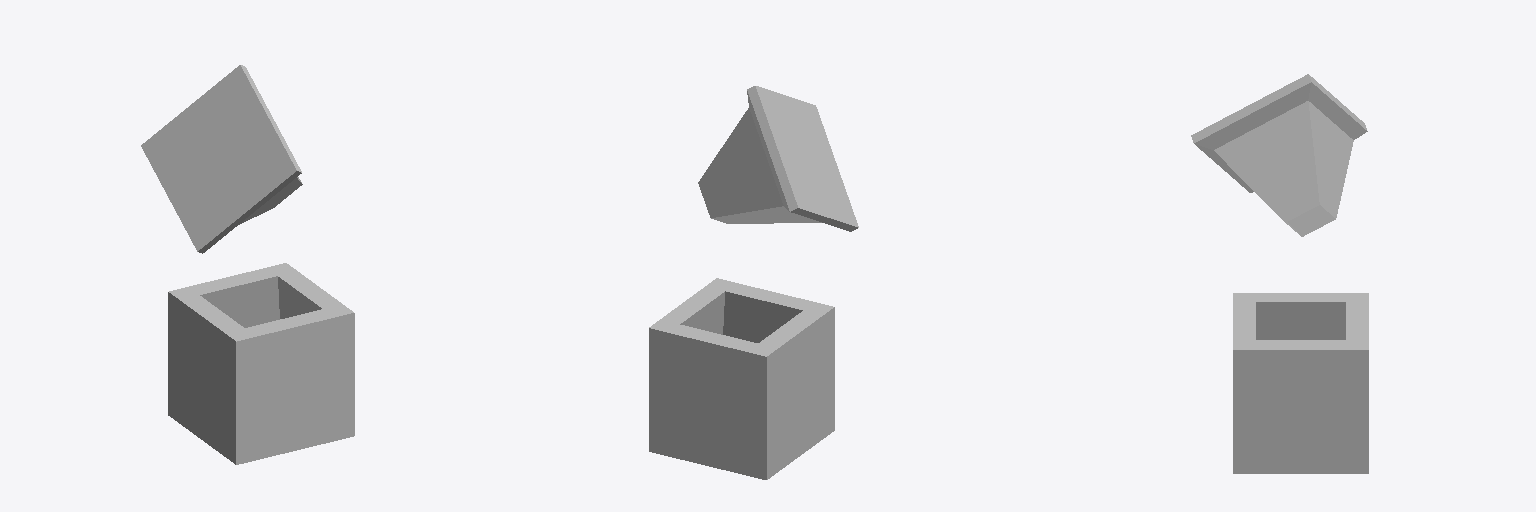
File: AnimatedBox_000111.obj
3 renders of one model, left to right at view 1: azimuth 30°, elevation 25°; view 2: azimuth 150°, elevation 25°; view 3: azimuth 270°, elevation 25°, orthographic.
Parts seen in each view (by area): view 1: Cube, Cube.001; view 2: Cube, Cube.001; view 3: Cube, Cube.001.
Boxes of the visible parts, box(x1,y1,x2,y2) form: Cube: box(168, 263, 354, 464); Cube.001: box(141, 65, 302, 253); Cube: box(649, 278, 834, 479); Cube.001: box(698, 86, 858, 231); Cube: box(1233, 293, 1368, 473); Cube.001: box(1191, 74, 1367, 236).
Size of the model in its own units: 2.53 by 5.86 by 2.61.